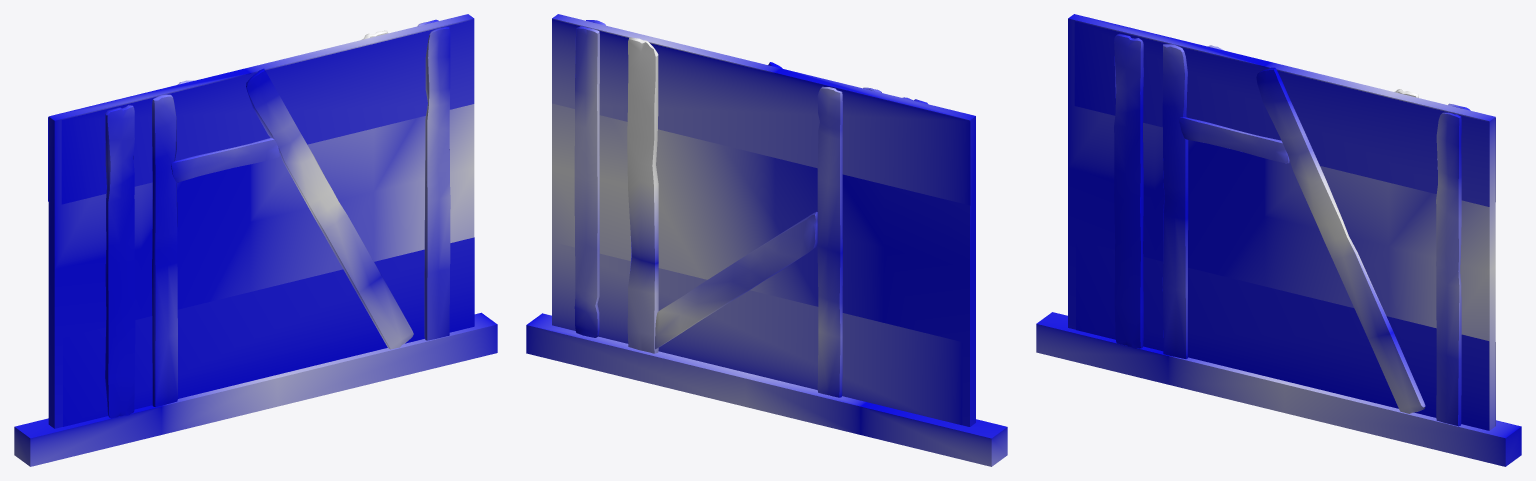
File: SM_ShackSide4m_01.fbx
3 views of the same model, side by side, from view 1: azimuth 30°, elevation 25°; view 2: azimuth 150°, elevation 25°; view 3: azimuth 330°, elevation 25° (orthographic).
Visible parts, largest first — view 1: SM_ShackSide4m_01_LOD0; view 2: SM_ShackSide4m_01_LOD0; view 3: SM_ShackSide4m_01_LOD0.
Part boxes in pixels (<box>): SM_ShackSide4m_01_LOD0: <box>14,14,497,466</box>; SM_ShackSide4m_01_LOD0: <box>526,14,1007,466</box>; SM_ShackSide4m_01_LOD0: <box>1036,14,1521,466</box>.
Size of the model in its own units: 445 by 27.63 by 309.
